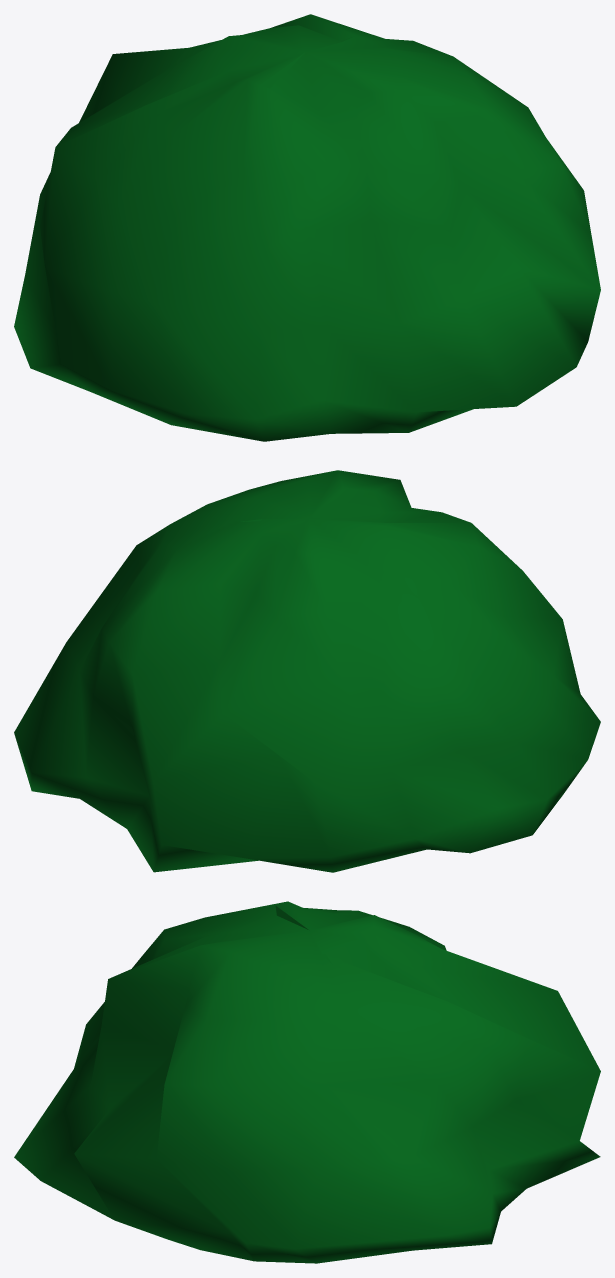
The model's file is bush_02.fbx.
The picture shows the model from 3 angles, top to bottom: view 1: azimuth 30°, elevation 25°; view 2: azimuth 150°, elevation 25°; view 3: azimuth 270°, elevation 25°; orthographic projection. The views are drawn at different scales.
Visible parts, largest first — view 1: Sphere104; view 2: Sphere104; view 3: Sphere104.
Boxes of the visible parts, x1,y1,x2,y2 form: Sphere104: (14, 14, 600, 441); Sphere104: (14, 470, 600, 872); Sphere104: (14, 901, 600, 1263).
Size of the model in its own units: 568 by 288 by 652.
